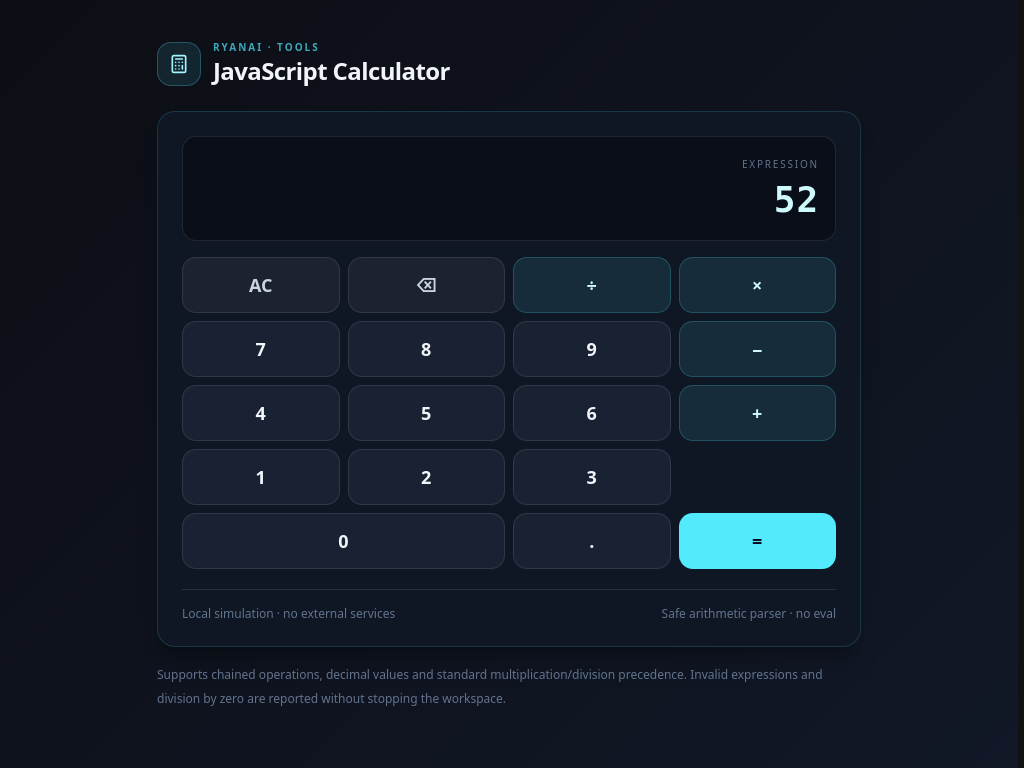
Test: calculator user interface › supports backspace and reports divide-by-zero safely
Earlier steps of the test are not shown.
Click the button "⌫" at (426, 285), box [348, 257, 505, 313]
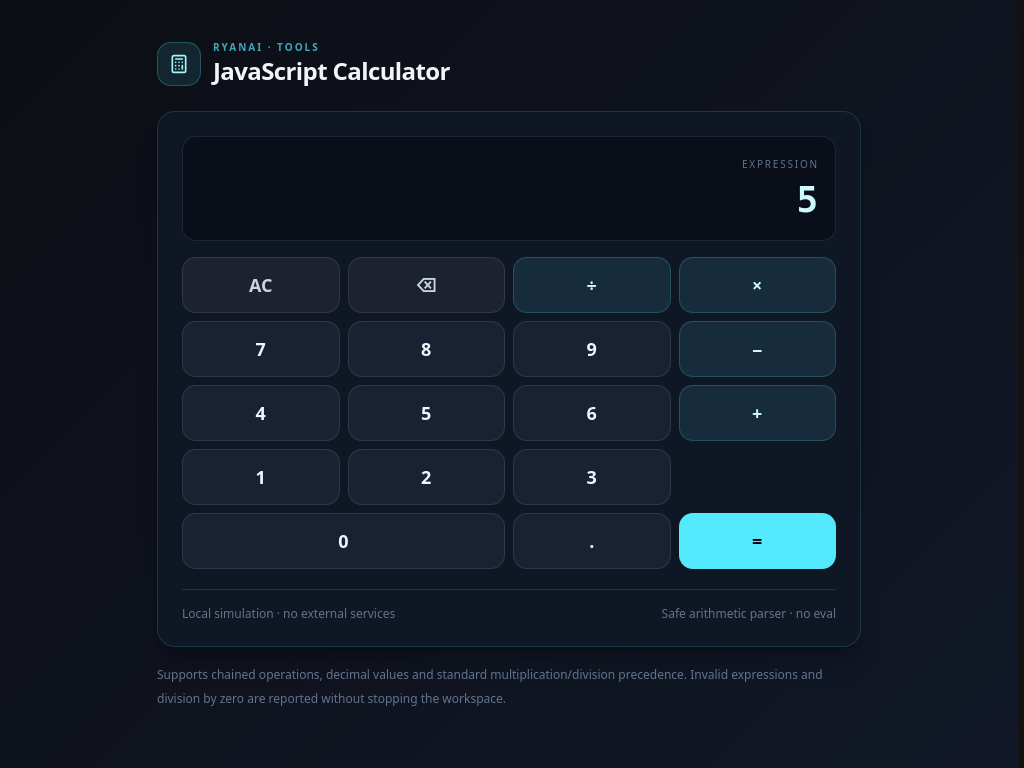
Click the button "AC" at (261, 285), box [182, 257, 340, 313]
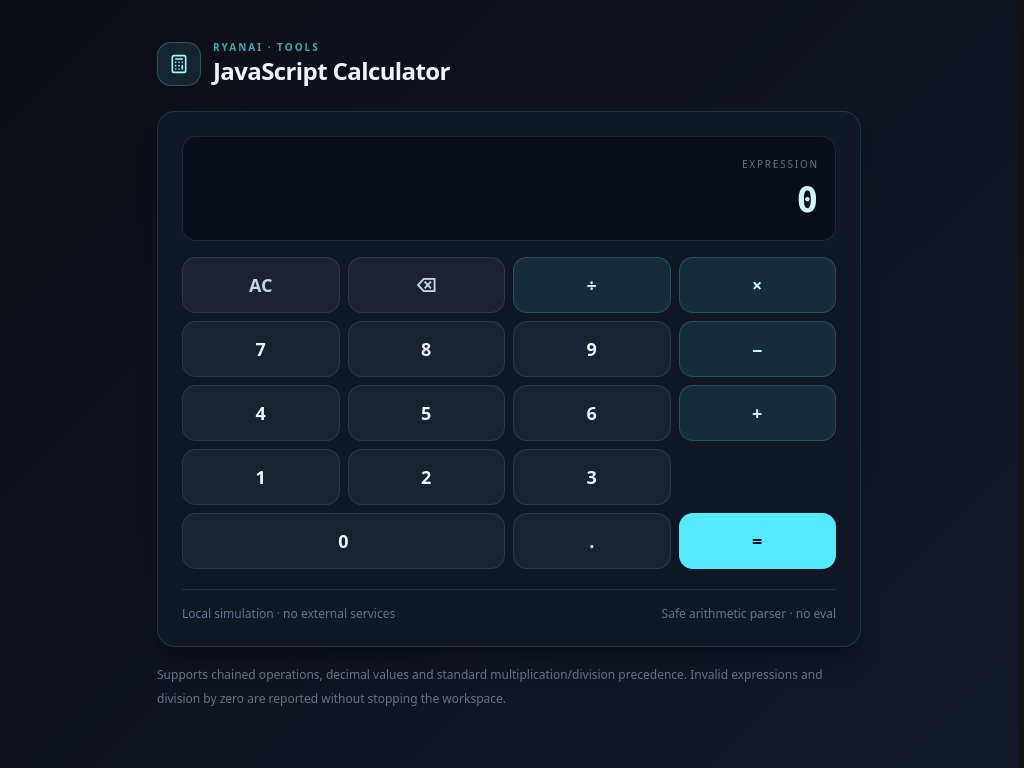
Click the button "5" at (426, 413), box [348, 385, 505, 441]
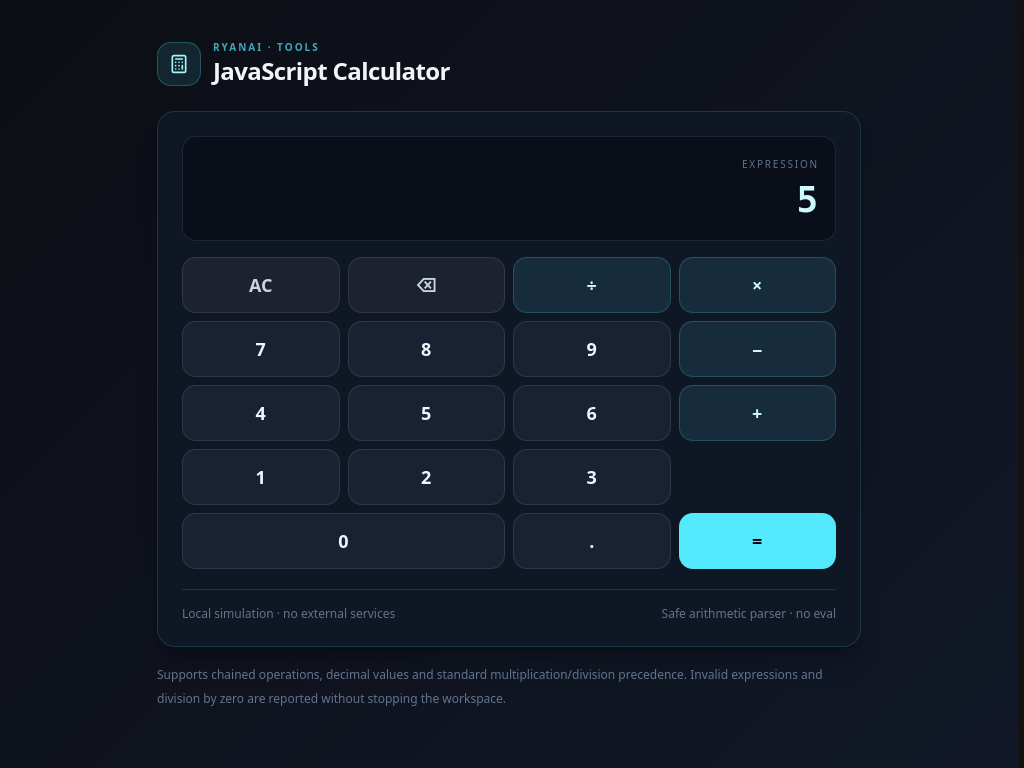
Click the button "÷" at (592, 285), box [513, 257, 670, 313]
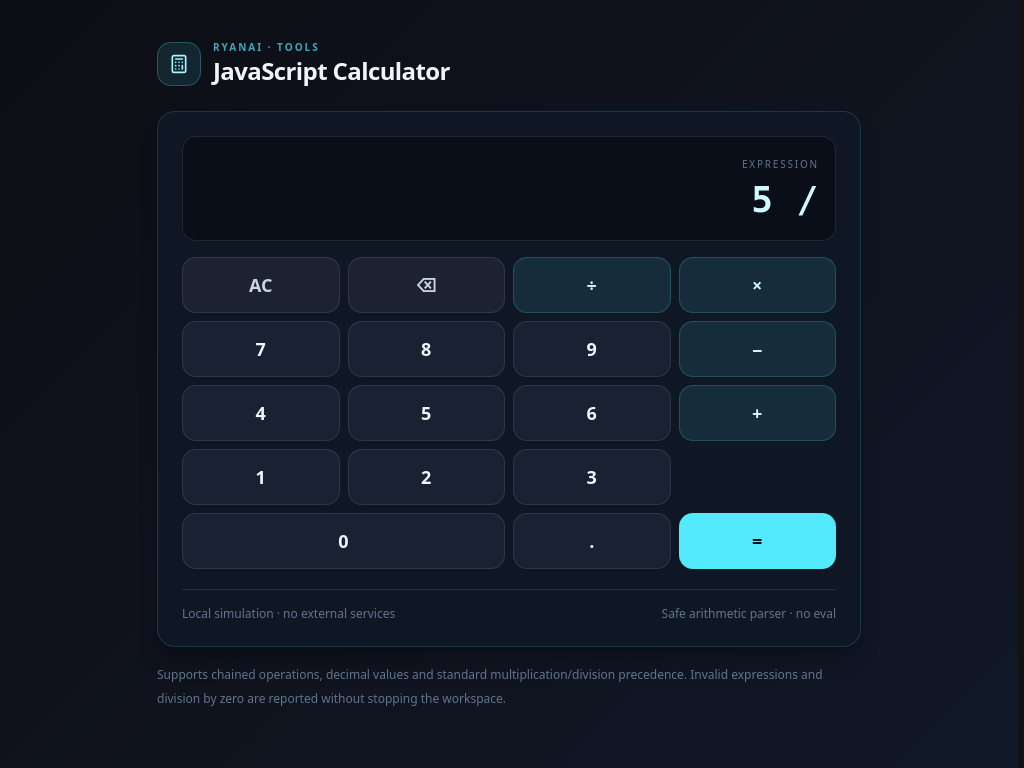
Click the button "0" at (344, 541), box [182, 513, 505, 569]
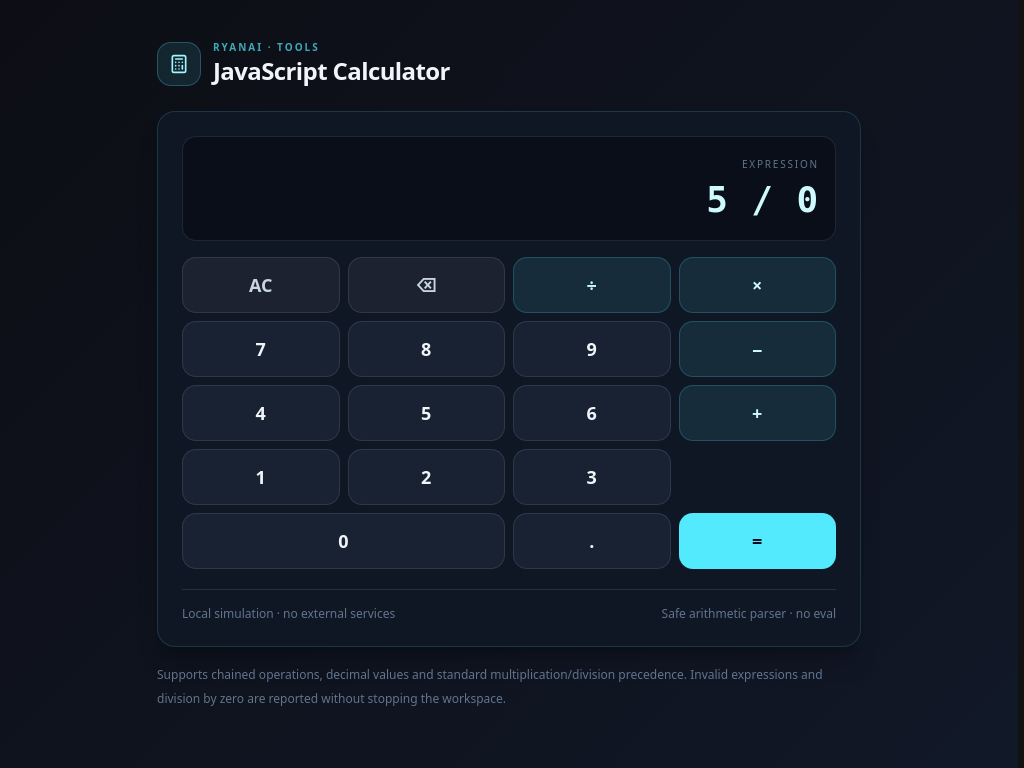
Click the button "=" at (757, 541), box [678, 513, 836, 569]
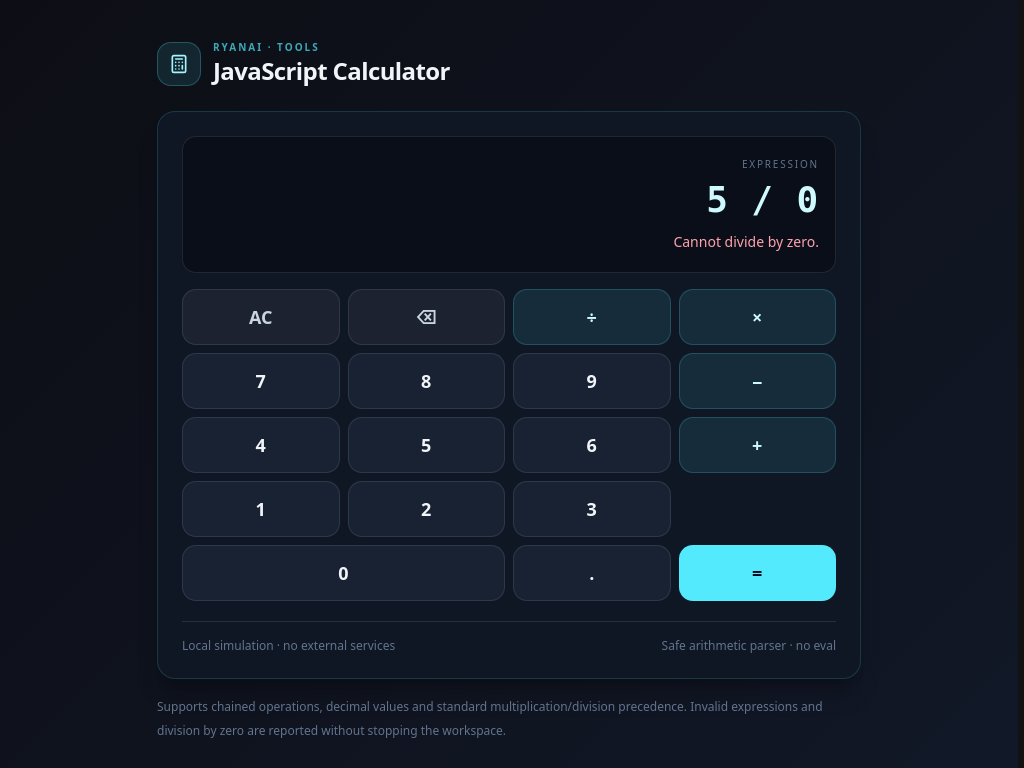
Expected: the message "Cannot divide by zero." is shown, [673, 232, 819, 251]
